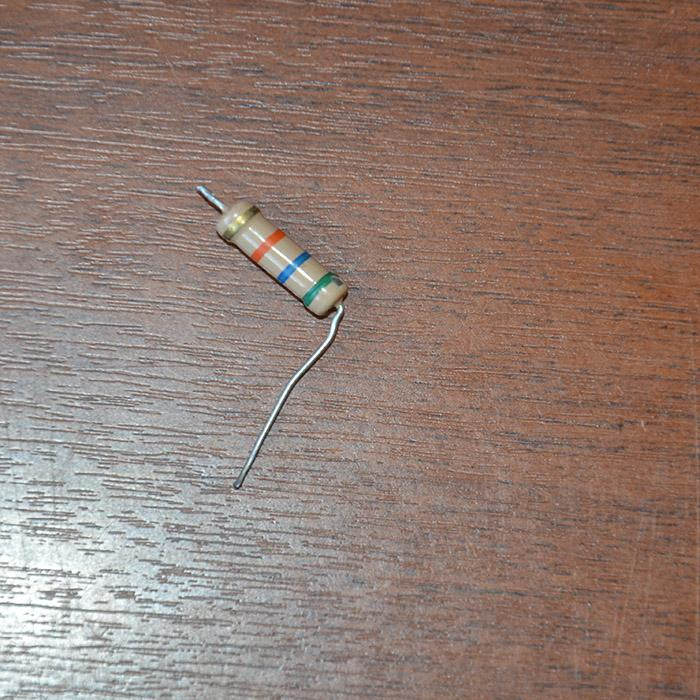resistor: (207, 193, 346, 317)
